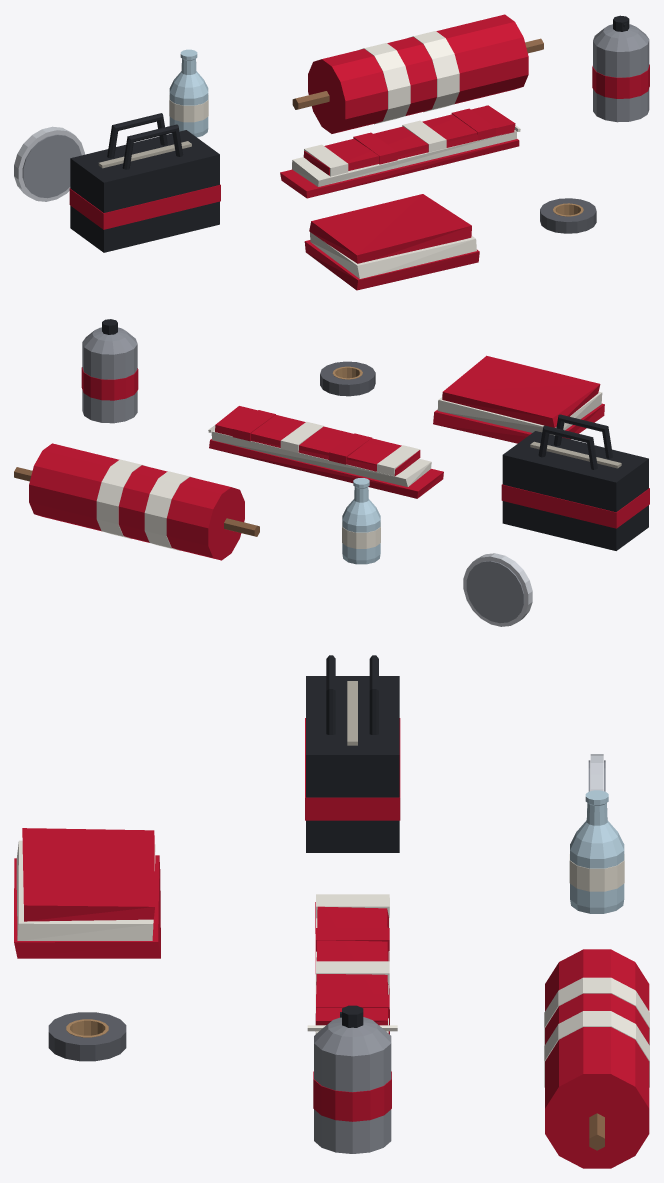
File: rush-props.glb
3 renders of one model, top to bottom at view 1: azimuth 30°, elevation 25°; view 2: azimuth 150°, elevation 25°; view 3: azimuth 270°, elevation 25°, orthographic. The views are drawn at different scales.
Visible parts, largest first — view 1: roll, bag, cloth, scarf, paint, coin, bottle, tape; view 2: roll, bag, scarf, cloth, paint, coin, bottle, tape; view 3: roll, cloth, bag, paint, scarf, bottle, tape.
Boxes of the visible parts, x1,y1,x2,y2 form: roll: (292,14,543,133); bag: (69,113,220,252); cloth: (304,194,479,290); scarf: (280,105,520,198); paint: (592,15,649,122); coin: (14,126,84,201); bottle: (169,49,208,137); tape: (540,198,596,233); roll: (14,443,259,560); bag: (501,414,649,550); scarf: (208,406,443,498); cloth: (433,355,604,443); paint: (81,319,138,423); coin: (463,553,532,626); bottle: (342,478,380,564); tape: (320,361,375,396); roll: (544,949,649,1168); cloth: (14,828,160,958); bag: (305,655,400,852); paint: (313,1005,391,1153); scarf: (307,894,397,1034); bottle: (569,790,624,913); tape: (48,1012,126,1061).
Size of the model in its own units: 2.51 by 0.5811 by 1.77.
